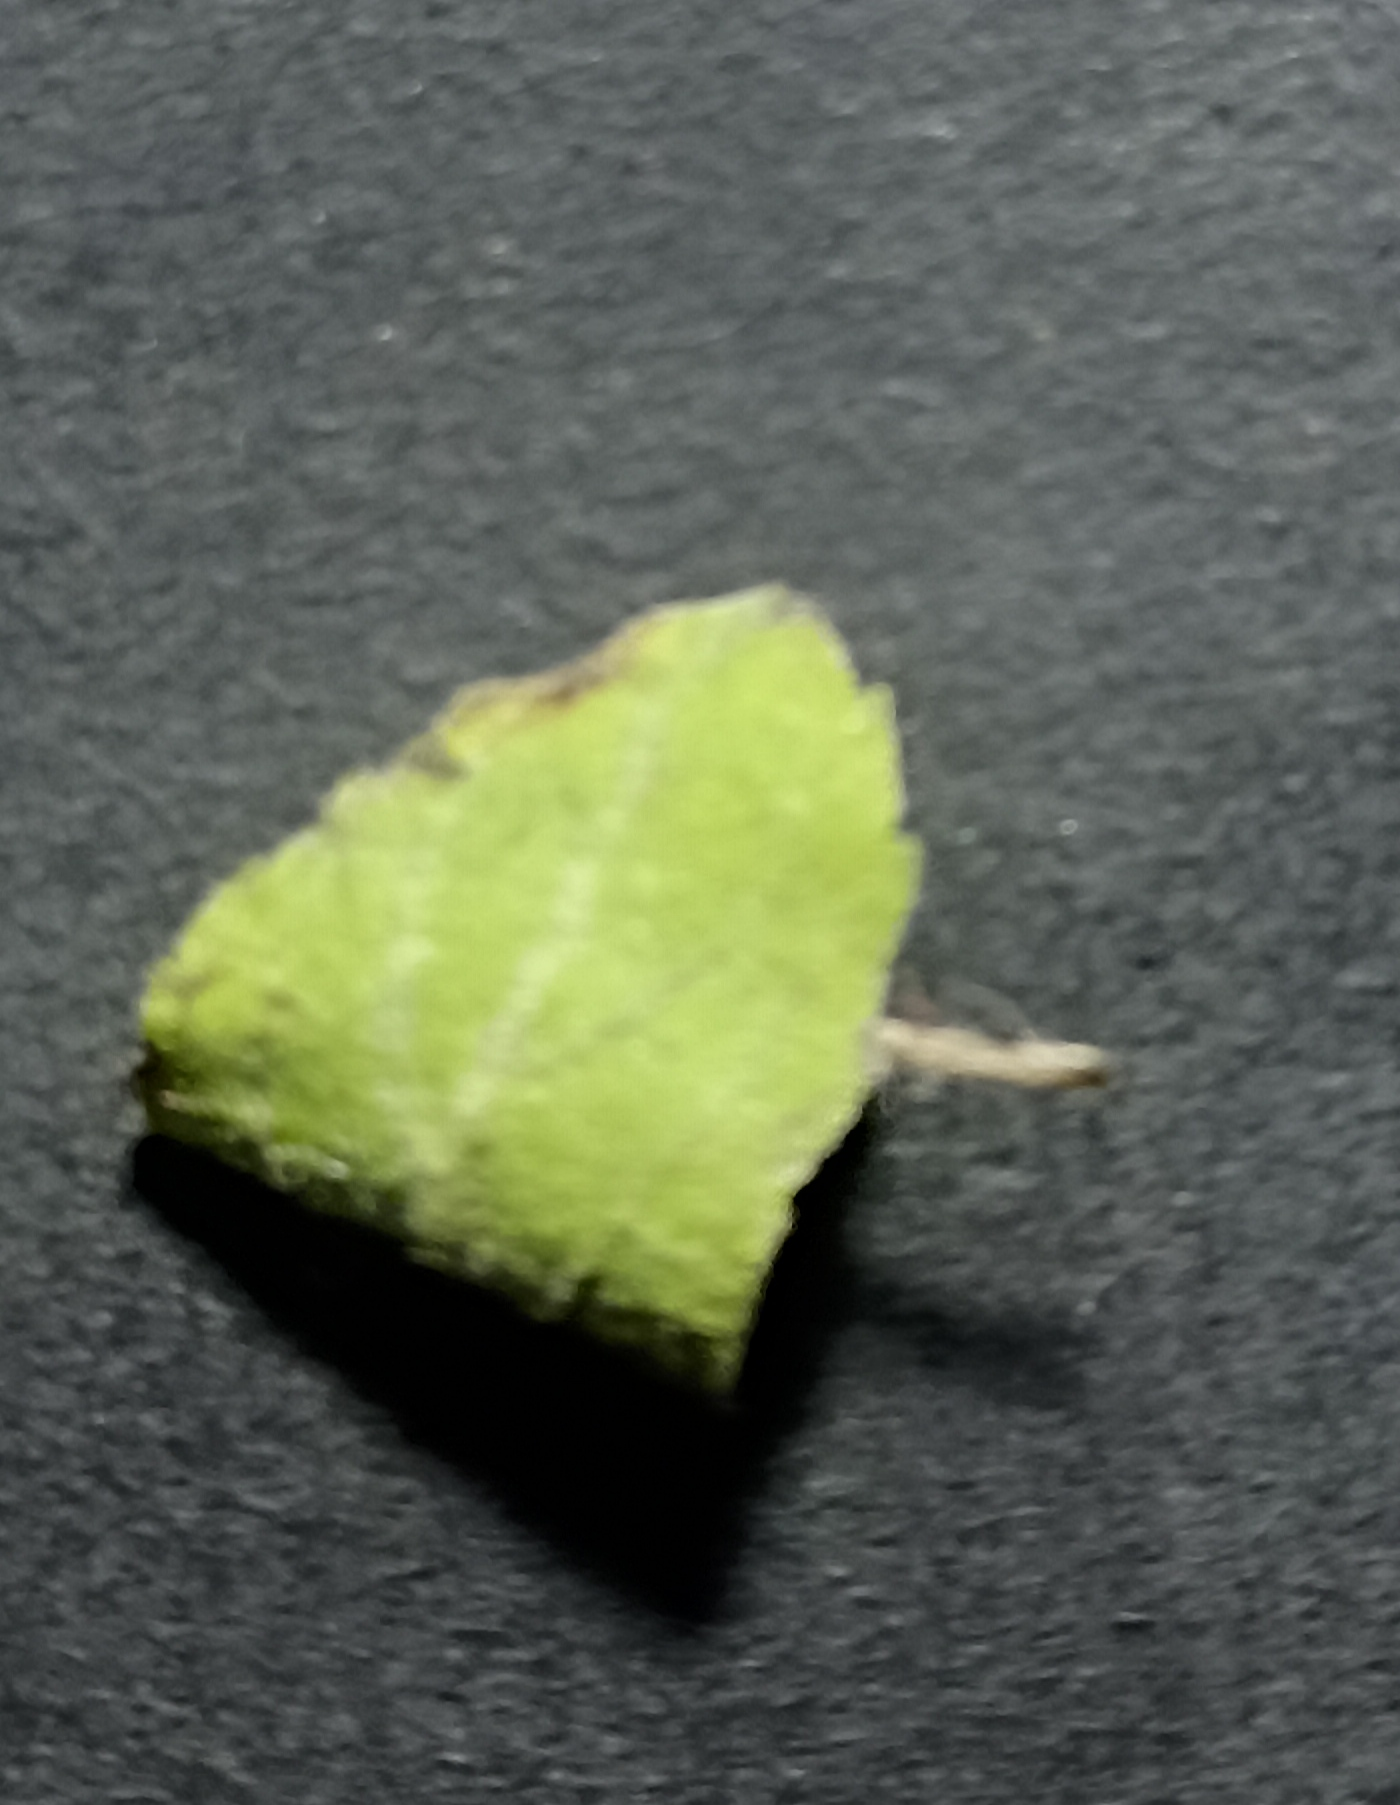Unhealthy: (124, 541, 930, 1420)
